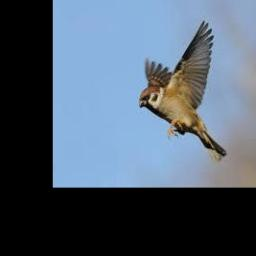Sparrow: (139, 21, 226, 163)
